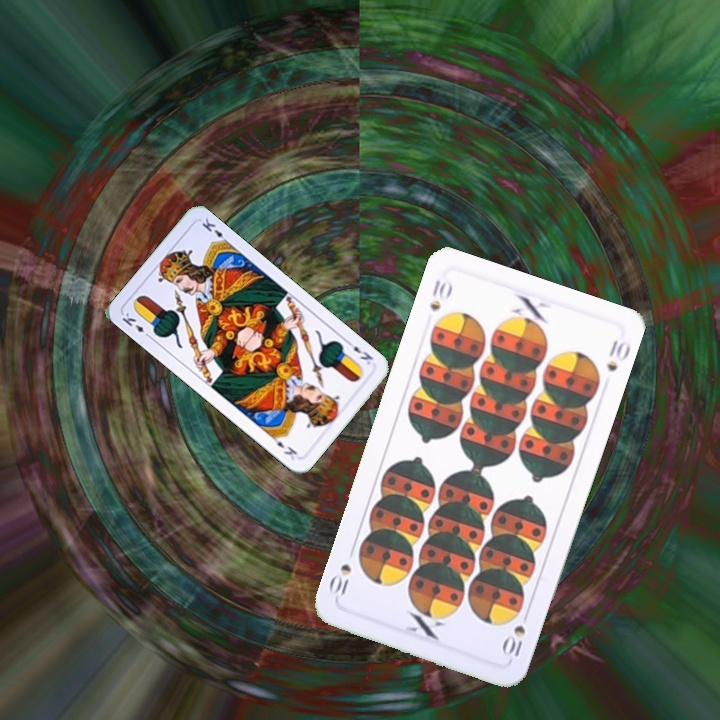EK: (118, 308, 154, 341), (343, 337, 376, 367)
S10: (498, 606, 532, 660), (426, 275, 455, 314)
